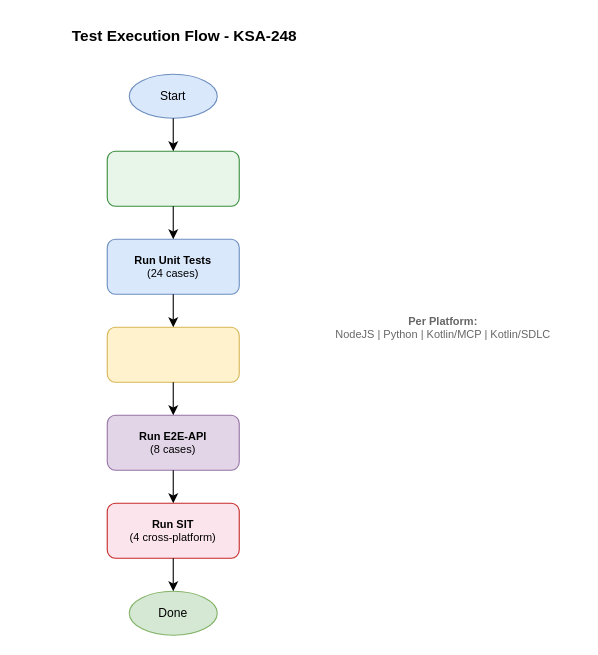
This 598x655 diagram has some shape labels left out. The shapes that lost their labels are listed below. From the top down, each one's centre as x and y in pixels, then its label:
point (172, 178): Run PBT (6 properties)
point (172, 354): Run Integration (12 cases)
